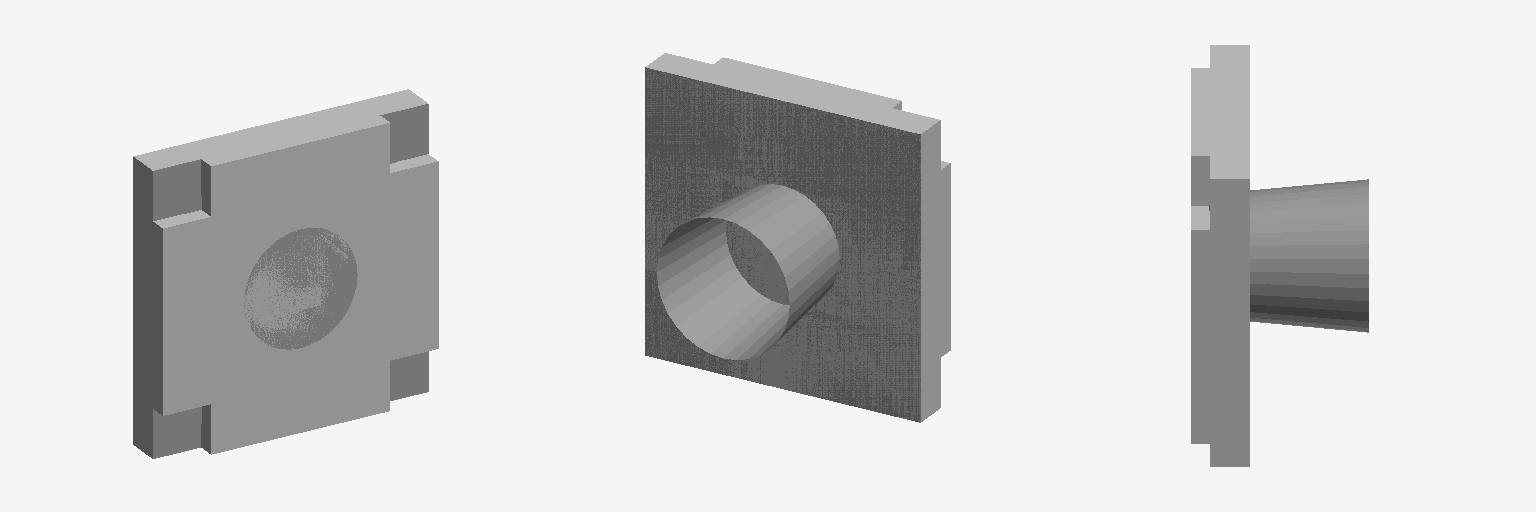
The model's file is aucman_vault_ceiling_floor.obj.
3 renders of one model, left to right at view 1: azimuth 30°, elevation 25°; view 2: azimuth 150°, elevation 25°; view 3: azimuth 270°, elevation 25°, orthographic.
Visible parts, largest first — view 1: c_box_007, c_box_008, c_box_006, c_box_005, g_disk, c_box_solid, g_dest_floor4, c_box_013, g_solid_floor4, c_disk; view 2: g_solid_vault, c_box_solid, g_hole_glow, c_box_003, c_box_001, c_box_004, c_box_013, c_box_002, g_dest_vault, c_box_008, c_box_007, c_box_006 (+1 smaller); view 3: g_hole_glow, c_box_solid, c_box_013, c_box_005, c_box_008, c_box_007, c_box_003, c_box_004, c_box_006, c_box_002.
Boxes of the visible parts, box(x1,y1,x2,y2) form: c_box_007: box(153, 255, 438, 415); c_box_008: box(153, 154, 438, 321); c_box_006: box(201, 137, 300, 454); c_box_005: box(291, 116, 389, 432); g_disk: box(244, 228, 357, 349); c_box_solid: box(133, 89, 426, 456); g_dest_floor4: box(153, 104, 428, 458); c_box_013: box(143, 96, 427, 458); g_solid_floor4: box(153, 106, 428, 458); c_disk: box(253, 234, 347, 337); g_solid_vault: box(645, 67, 920, 421); c_box_solid: box(645, 54, 940, 422); g_hole_glow: box(657, 184, 839, 359); c_box_003: box(645, 212, 940, 335); c_box_001: box(728, 85, 798, 388); c_box_004: box(645, 155, 940, 277); c_box_013: box(661, 53, 940, 414); c_box_002: box(783, 88, 836, 399); g_dest_vault: box(645, 140, 920, 349); c_box_008: box(941, 161, 950, 262); c_box_007: box(941, 257, 950, 356); c_box_006: box(803, 79, 901, 109); g_hole_glow: box(1250, 179, 1368, 332); c_box_solid: box(1210, 45, 1249, 466); c_box_013: box(1210, 45, 1229, 466); c_box_005: box(1191, 112, 1209, 443); c_box_008: box(1191, 206, 1209, 322); c_box_007: box(1191, 323, 1209, 416); c_box_003: box(1210, 323, 1249, 380); c_box_004: box(1210, 266, 1249, 322); c_box_006: box(1191, 68, 1209, 111); c_box_002: box(1210, 85, 1249, 102).
Size of the model in its own units: 400 by 400 by 225.